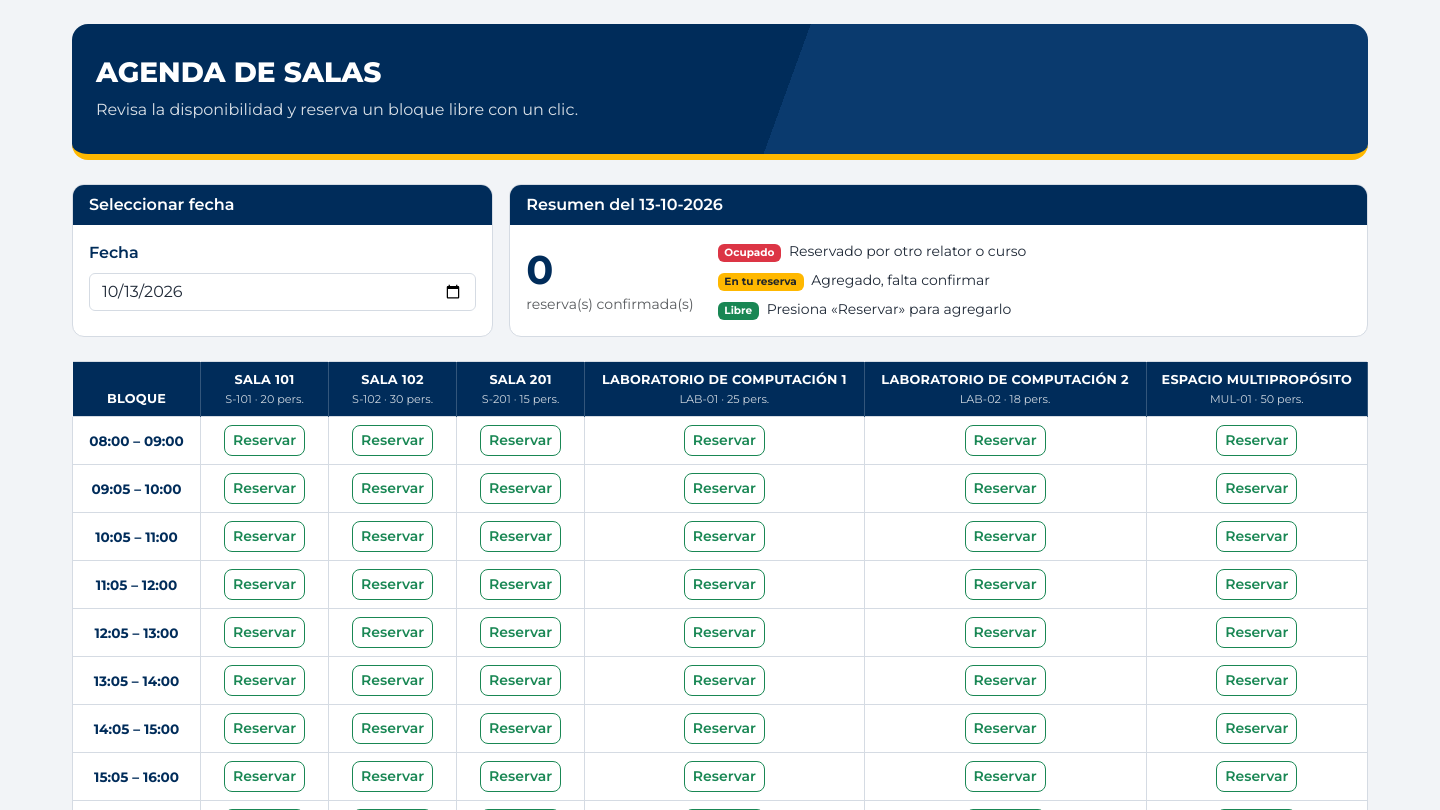
it: Página Agenda › en una fecha pasada no permite reservar
Step 1. Type "2026-10-01" into the date field labelled "Fecha" → (283, 292), box [89,273,476,311]
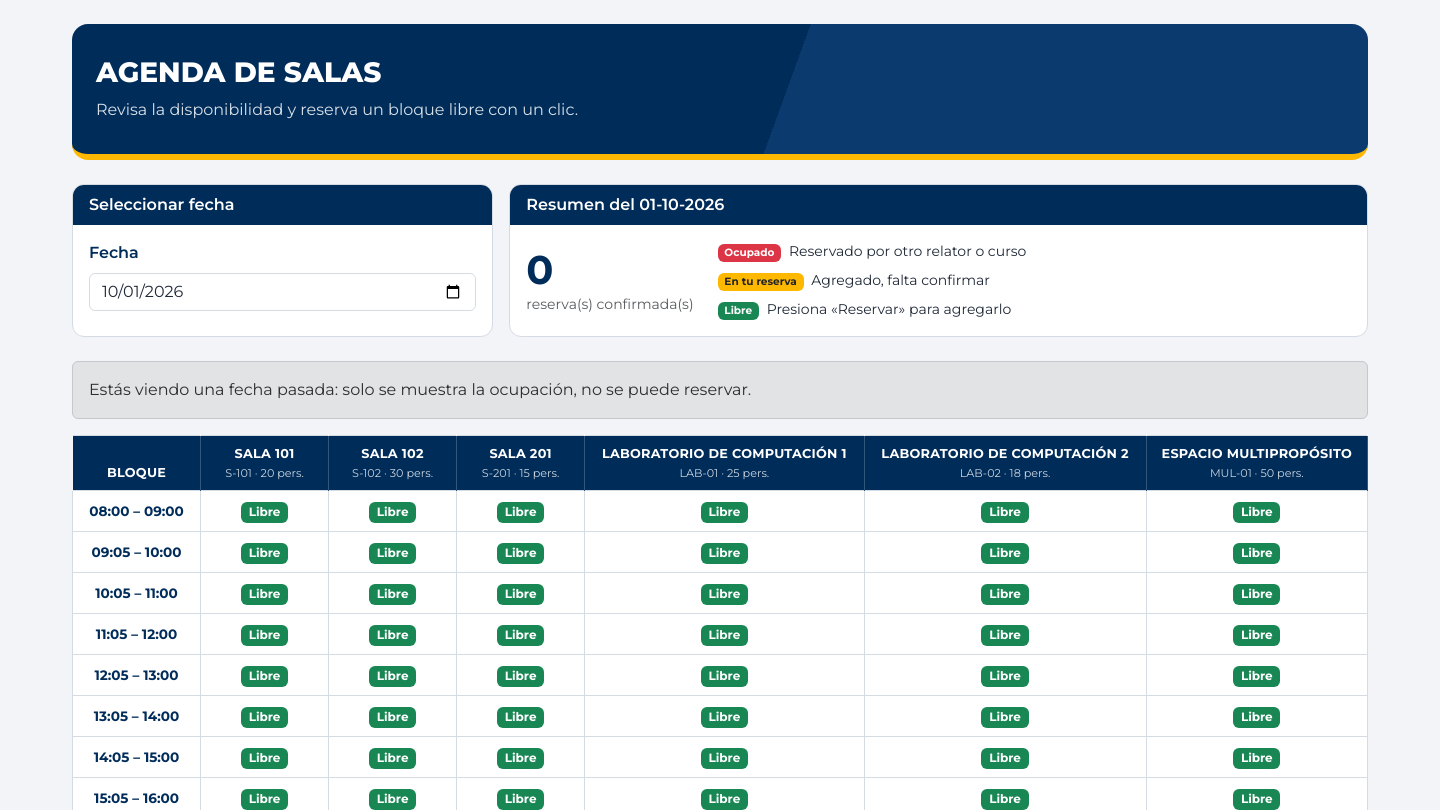
expect no buttons "Reservar" are shown: met
expect the text "fecha pasada" is shown: met, box [89,380,751,399]
